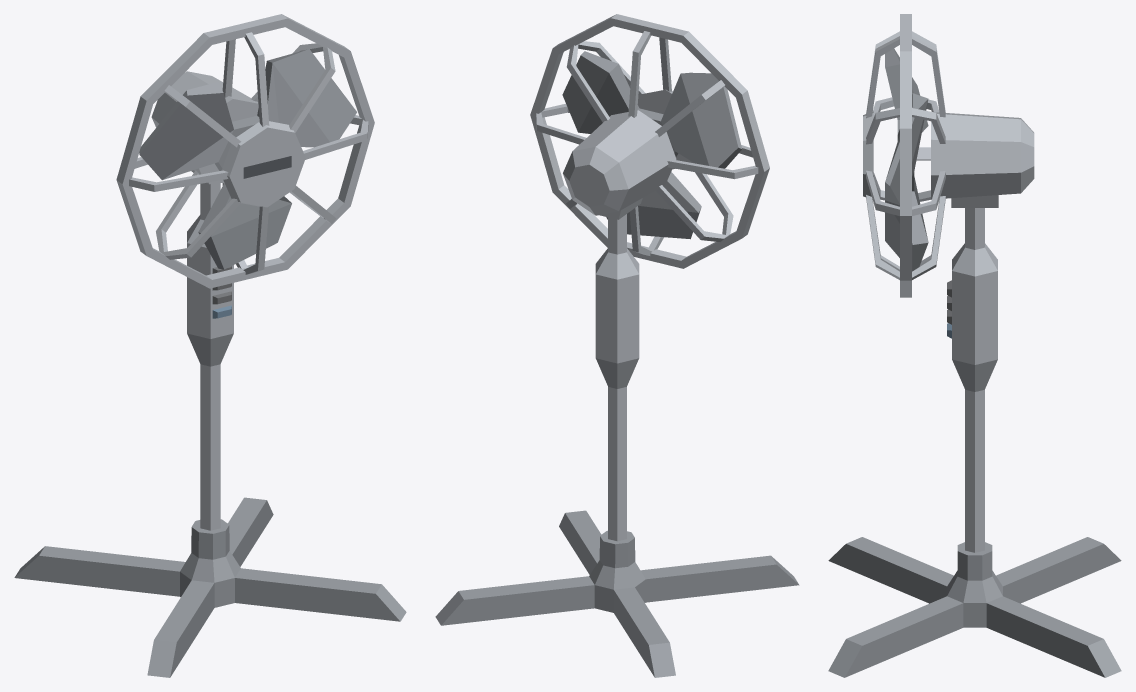
File: StageFan.obj
The picture shows the model from 3 angles, left to right: view 1: azimuth 30°, elevation 25°; view 2: azimuth 150°, elevation 25°; view 3: azimuth 270°, elevation 25°; orthographic projection. The views are drawn at different scales.
Bounding box in the file's own units: 0.5473 × 1.2 × 0.5473.
1 material, 1 textured.
